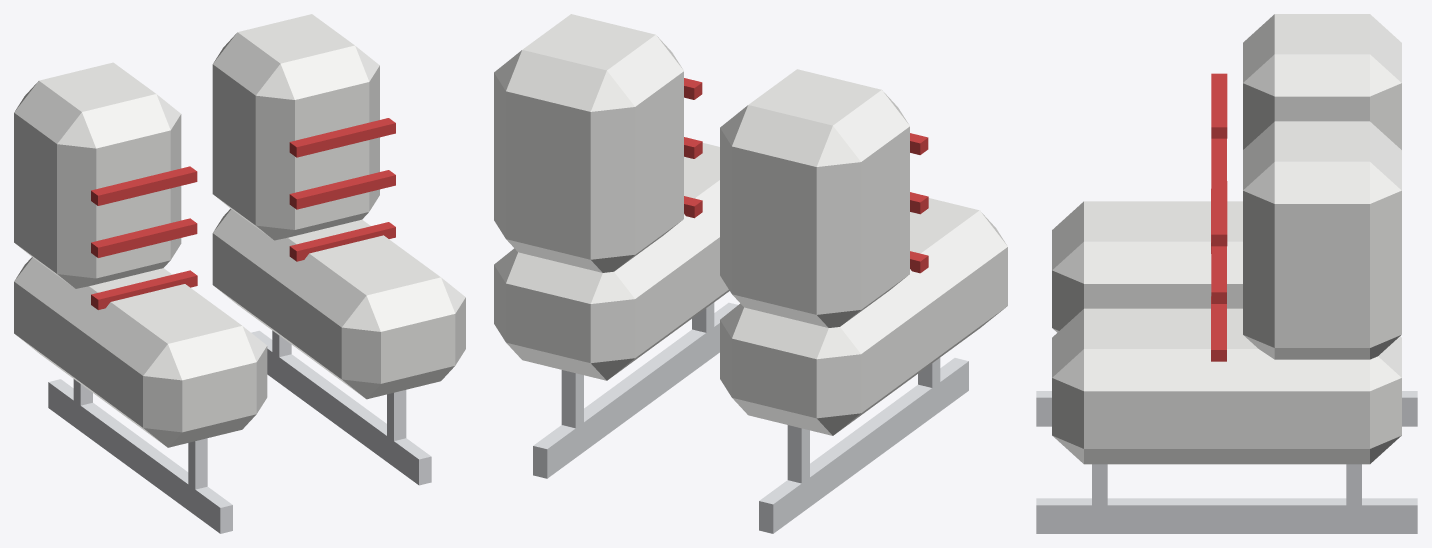
The model's file is IceSkates.fbx.
3 renders of one model, left to right at view 1: azimuth 30°, elevation 25°; view 2: azimuth 150°, elevation 25°; view 3: azimuth 270°, elevation 25°, orthographic. The views are drawn at different scales.
Parts seen in each view (by area): view 1: IceSkates; view 2: IceSkates; view 3: IceSkates.
Part boxes in pixels (left/top/right/bottom): IceSkates: left=14, top=14, right=465, bottom=533; IceSkates: left=494, top=14, right=1007, bottom=533; IceSkates: left=1036, top=14, right=1417, bottom=533.
Size of the model in its own units: 2.6 by 2.7 by 2.4.
1 material, 1 textured.
